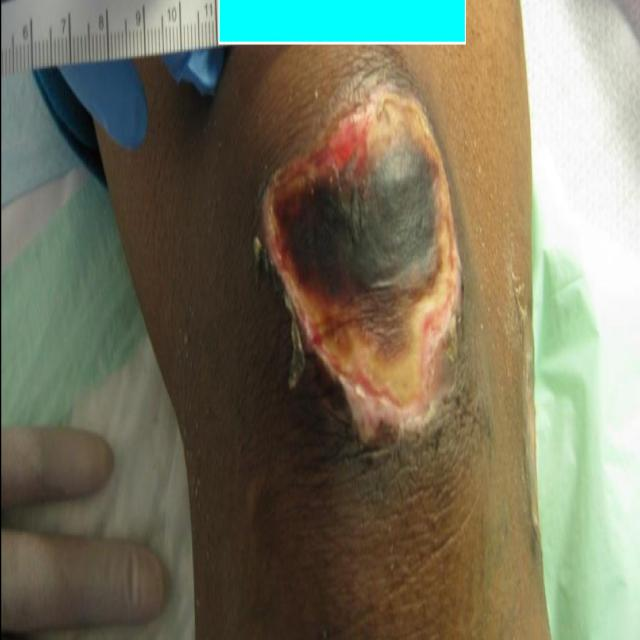Unstageable: (261, 84, 461, 441)
